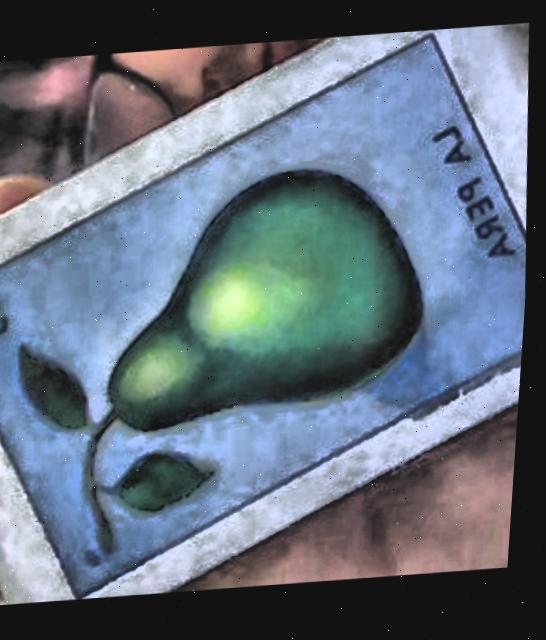La Pera: (0, 32, 530, 598)
